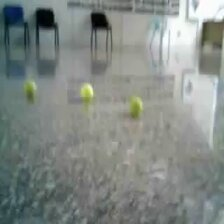tennis: (23, 80, 37, 99), (129, 96, 142, 116), (80, 83, 94, 101)
